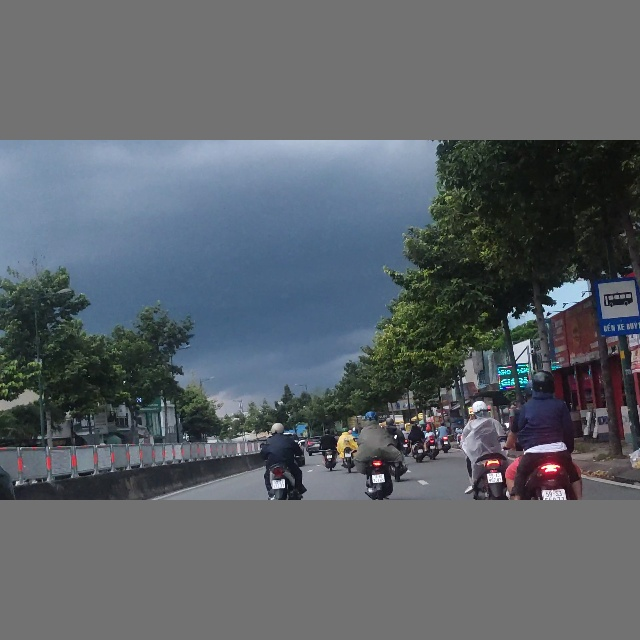I.434a: (594, 276, 640, 338)
